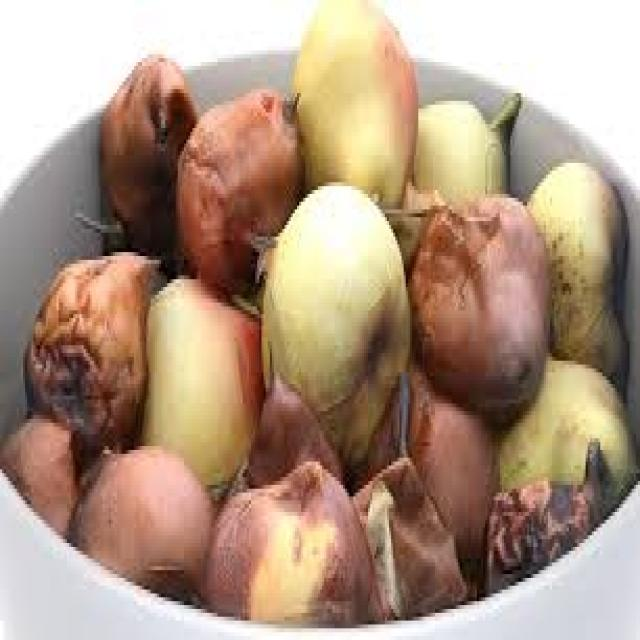food_waste: (0, 0, 634, 621)
